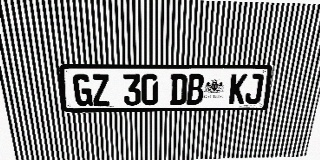0: (141, 74, 158, 105)
3: (123, 74, 141, 106)
B: (186, 74, 205, 105)
D: (170, 74, 187, 105)
G: (72, 74, 93, 106)
J: (244, 74, 264, 104)
K: (228, 74, 248, 104)
Z: (91, 74, 110, 106)
